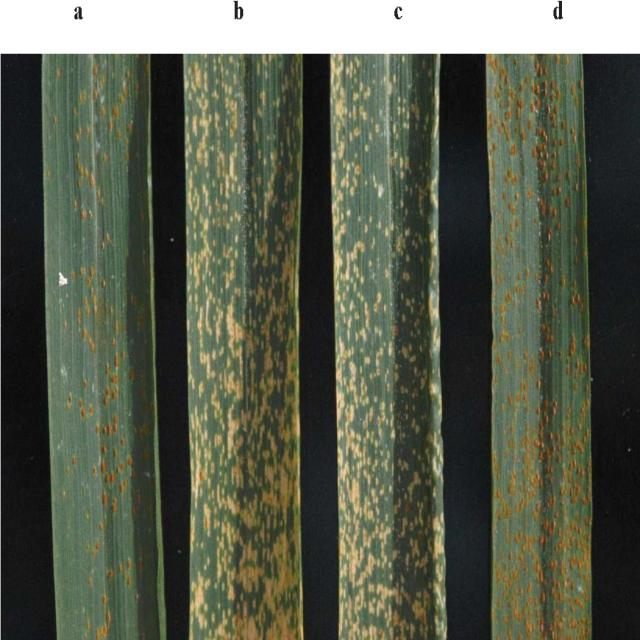leaf rust: (41, 57, 168, 640), (486, 58, 594, 640)
